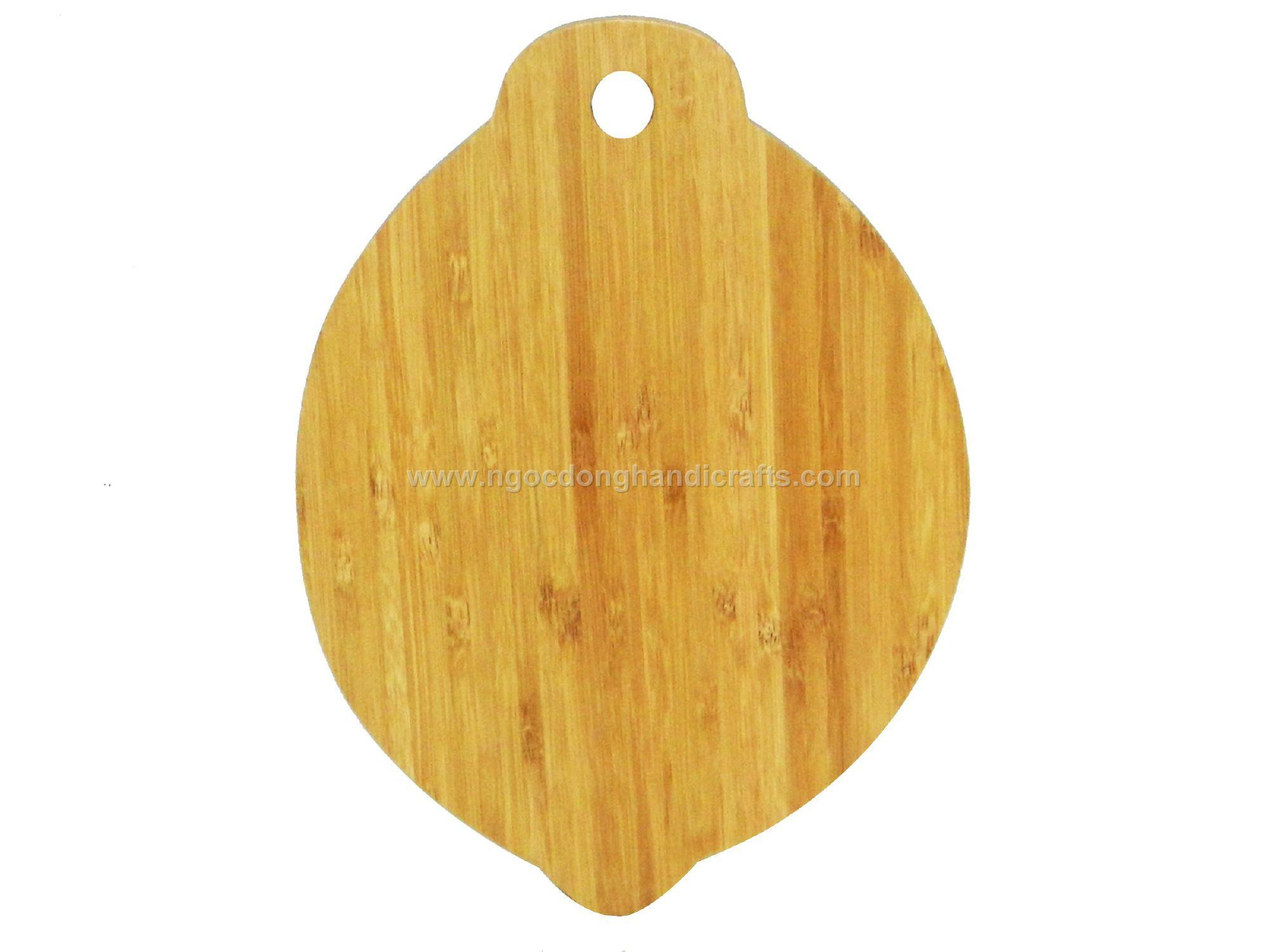gloved_hand: (284, 11, 984, 919)
